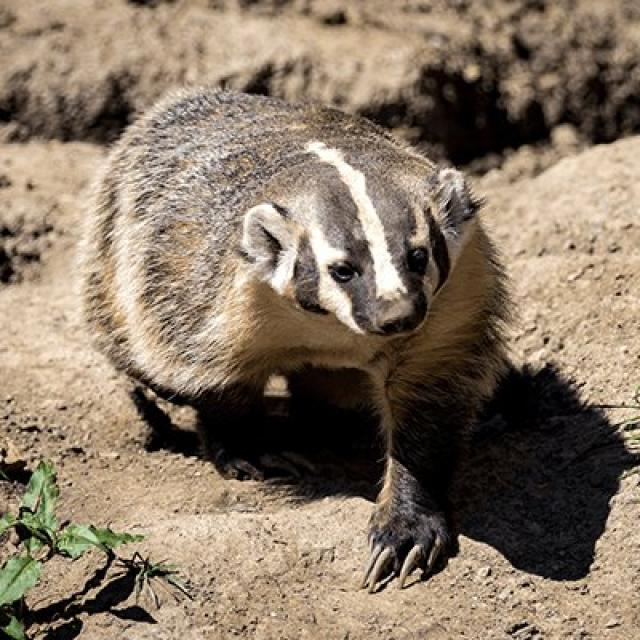Badger: (81, 75, 515, 604)
